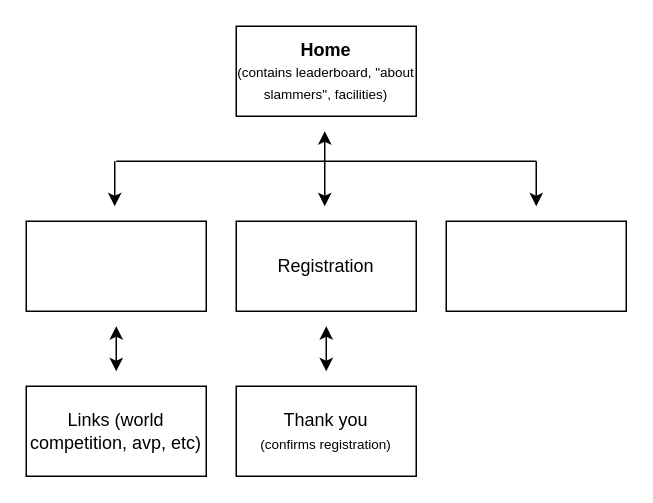
This 653x503 diagram has some shape labels left out. The centre of each missing label's shape, as x and y in pixels:
"Contact" goes at point (535, 265).
"Volleyball info" goes at point (115, 265).
